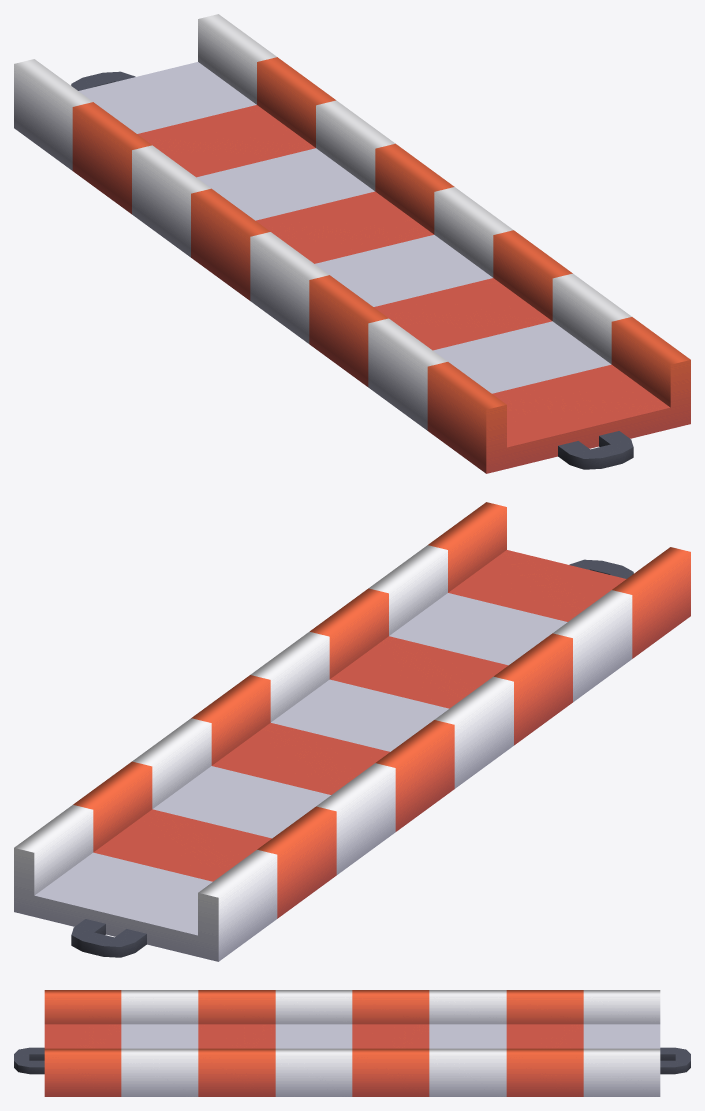
Rendered from track-striped-narrow-straight.glb.
3 views of the same model, one above another, from view 1: azimuth 30°, elevation 25°; view 2: azimuth 150°, elevation 25°; view 3: azimuth 270°, elevation 25° (orthographic). The views are drawn at different scales.
Visible parts, largest first — view 1: track-striped-narrow-straight; view 2: track-striped-narrow-straight; view 3: track-striped-narrow-straight.
Part boxes in pixels (bbox=[...]): track-striped-narrow-straight: bbox=[14, 14, 690, 473]; track-striped-narrow-straight: bbox=[14, 502, 690, 961]; track-striped-narrow-straight: bbox=[14, 990, 690, 1096].
Bounding box in the file's own units: 3 × 0.9 × 13.2.
1 material, 1 textured.
